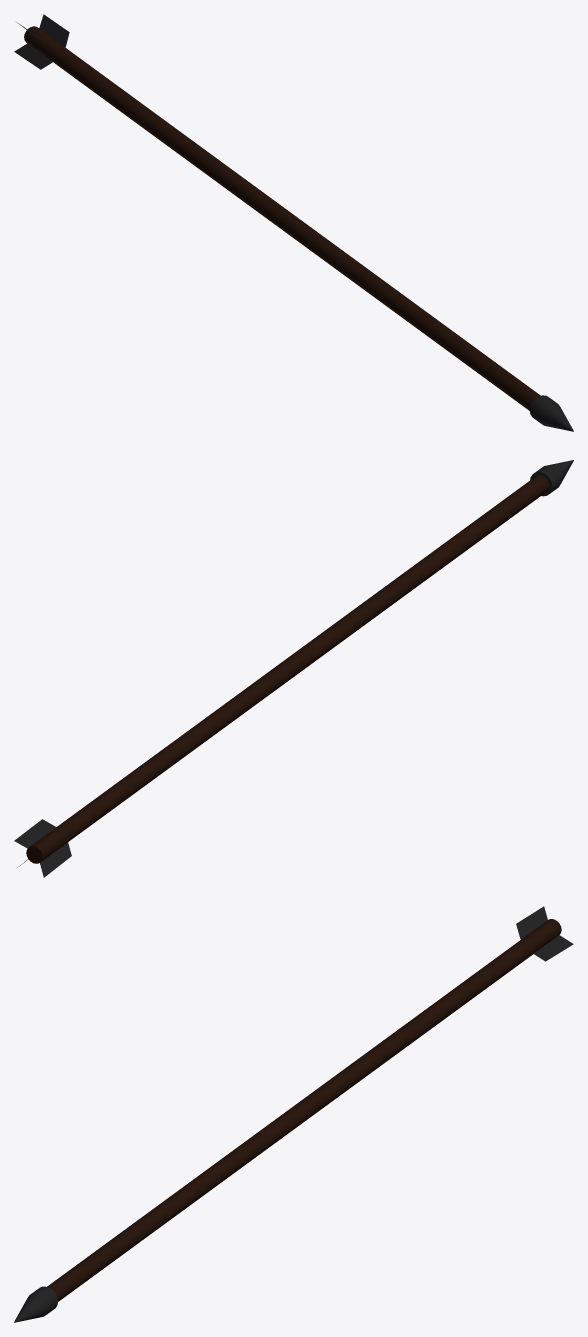
The model's file is Arrow (4).FBX.
3 views of the same model, one above another, from view 1: azimuth 30°, elevation 25°; view 2: azimuth 150°, elevation 25°; view 3: azimuth 330°, elevation 25° (orthographic).
Visible parts, largest first — view 1: Arrow; view 2: Arrow; view 3: Arrow.
Boxes of the visible parts, <box> form: Arrow: <box>14,14,573,431</box>; Arrow: <box>14,460,573,877</box>; Arrow: <box>14,906,573,1322</box>.
Size of the model in its own units: 4.66 by 144 by 4.91.
